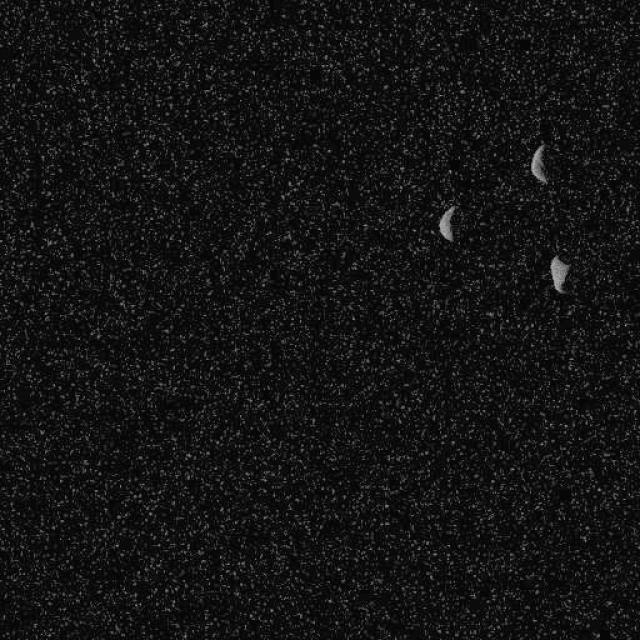D2: (549, 254, 570, 294), (529, 142, 549, 184), (438, 204, 457, 242)
